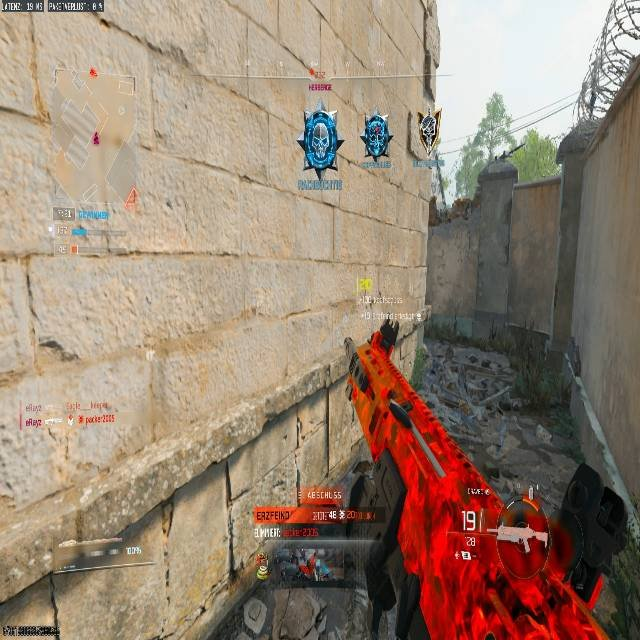head: (366, 327, 394, 364)
